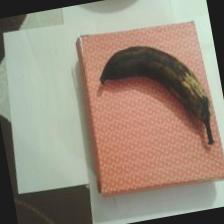Banana Rotten: (86, 20, 216, 161)
